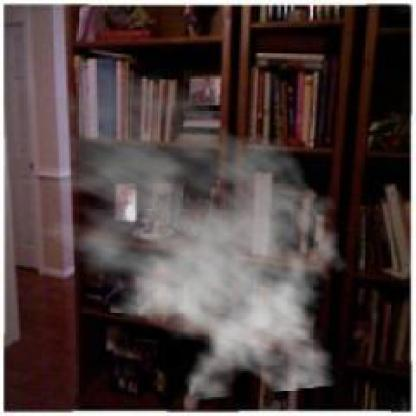Smoke: (19, 63, 359, 402)
